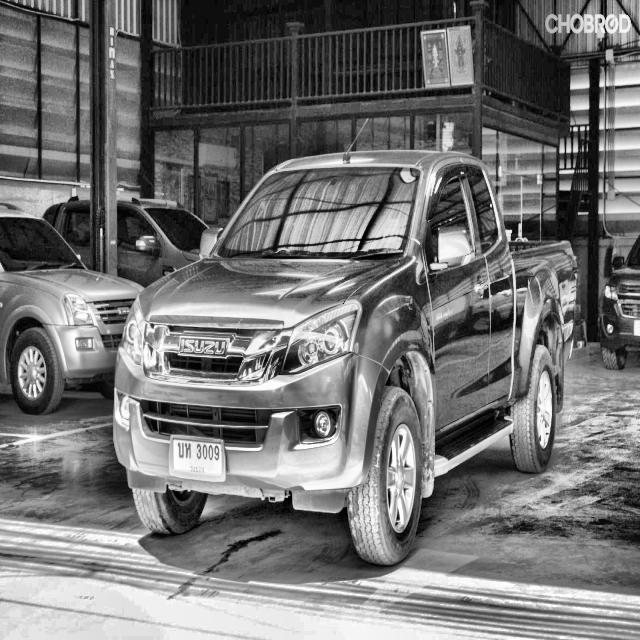license-plate: (170, 435, 227, 482)
